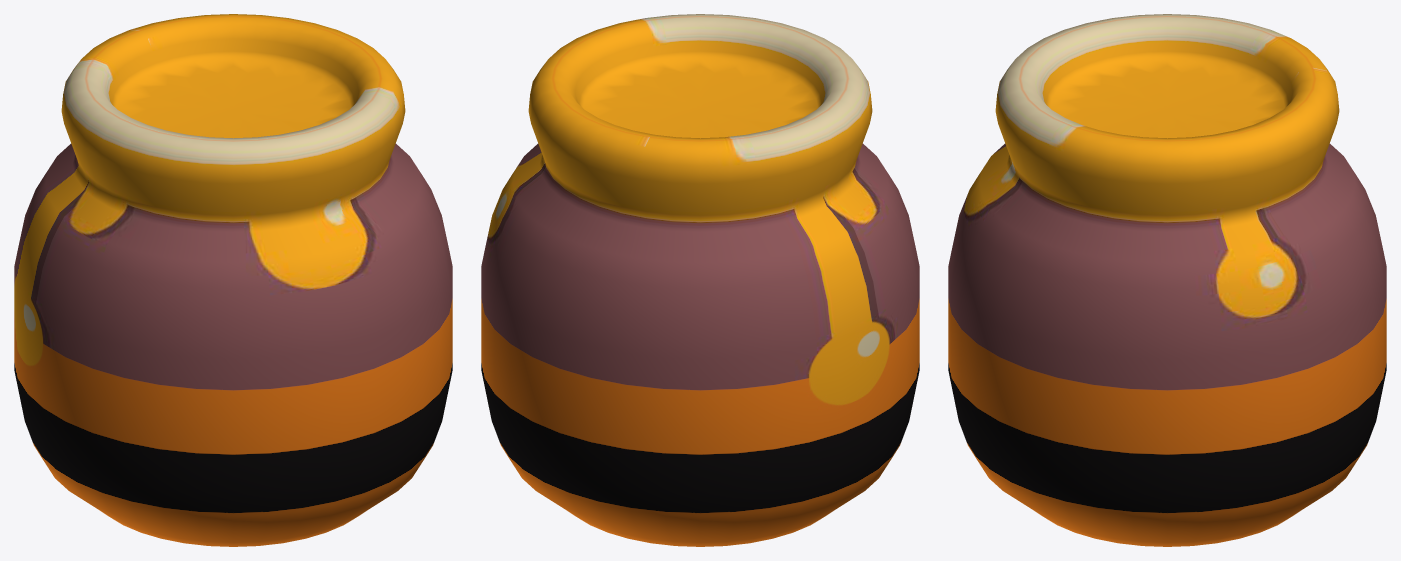
The model's file is Honey.FBX.
The picture shows the model from 3 angles, left to right: view 1: azimuth 30°, elevation 25°; view 2: azimuth 150°, elevation 25°; view 3: azimuth 270°, elevation 25°; orthographic projection.
Parts seen in each view (by area): view 1: asal; view 2: asal; view 3: asal.
Boxes of the visible parts, x1,y1,x2,y2 form: asal: (14,14,452,546); asal: (481,14,919,546); asal: (948,14,1386,546).
Size of the model in its own units: 39.61 by 41.24 by 39.61.
Materials: 1 (1 with a texture image).
